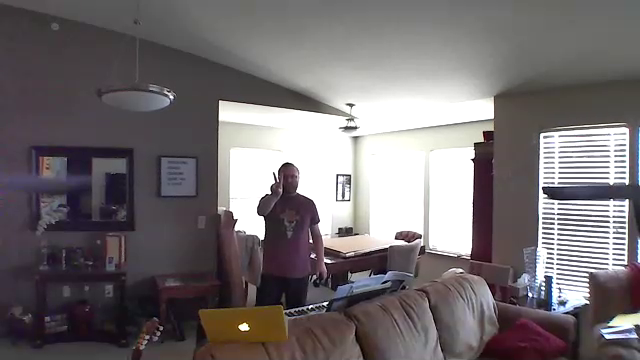peace: (267, 170, 288, 200)
